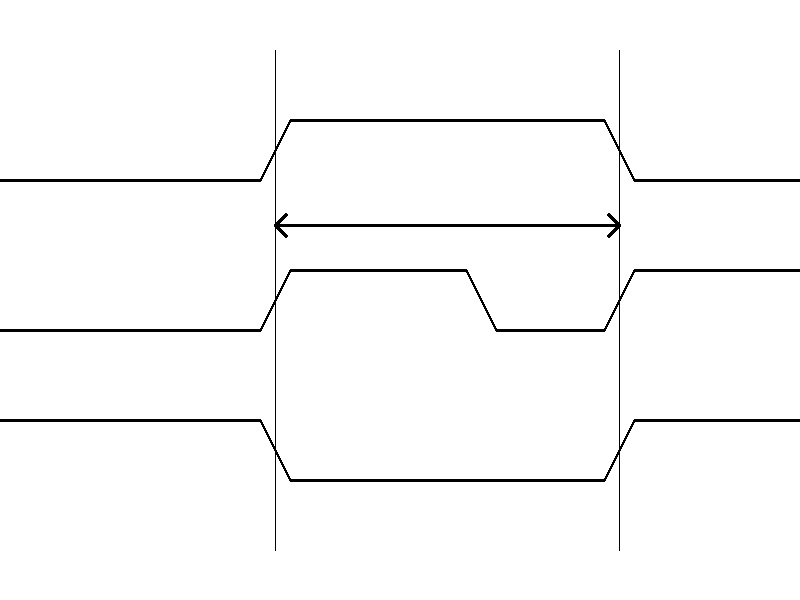double_arrow: (275, 210, 619, 240)
